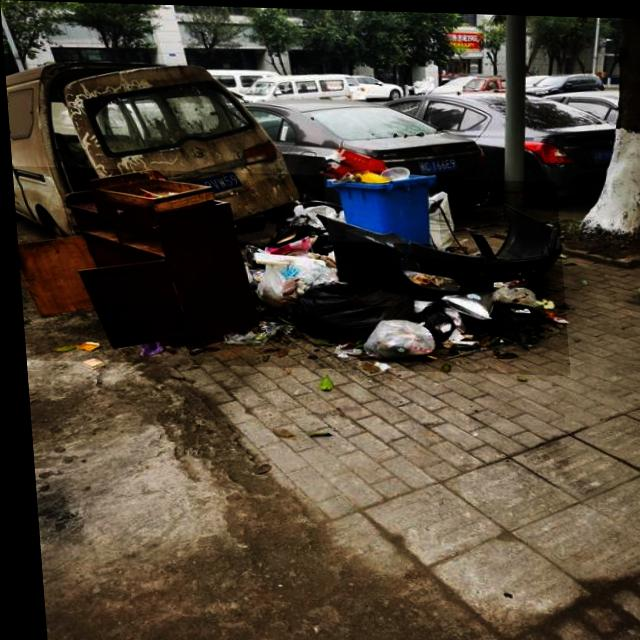garbage: (10, 166, 565, 372)
overflow: (319, 147, 437, 242)
